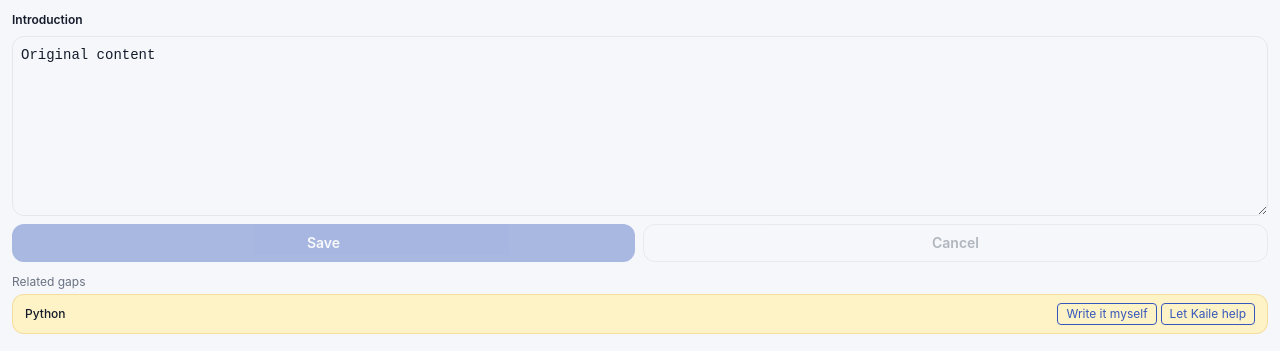
it: SectionEditor › resolved_gaps from save removes gap from visible list
The width and height of the screenshot is (1280, 351).
Expected: the button with test id "write-myself-btn" is shown, top-left (1058, 303), bottom-right (1157, 325)
Replace the text in the text box with test id "section-textarea" with "Python developer". click: (640, 126)
box: top-left (12, 36), bottom-right (1268, 216)
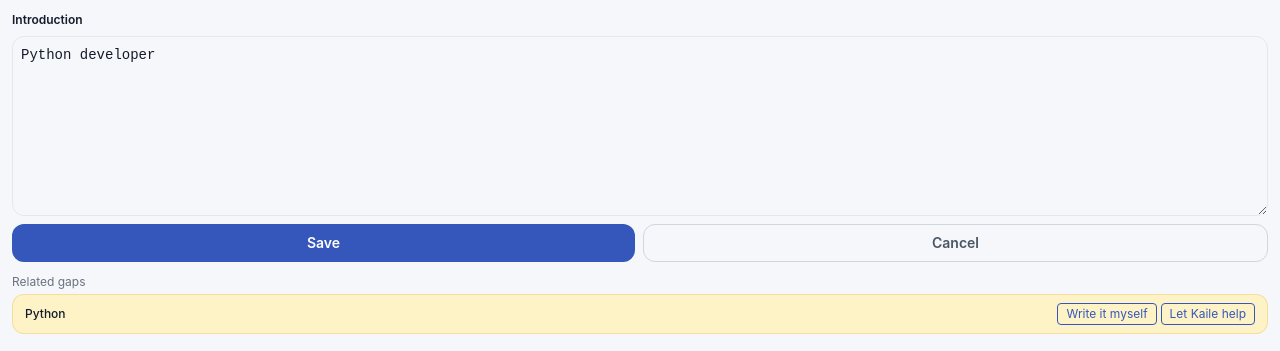
Click the button with test id "section-save". click: (324, 243)
box: top-left (12, 224), bottom-right (635, 262)
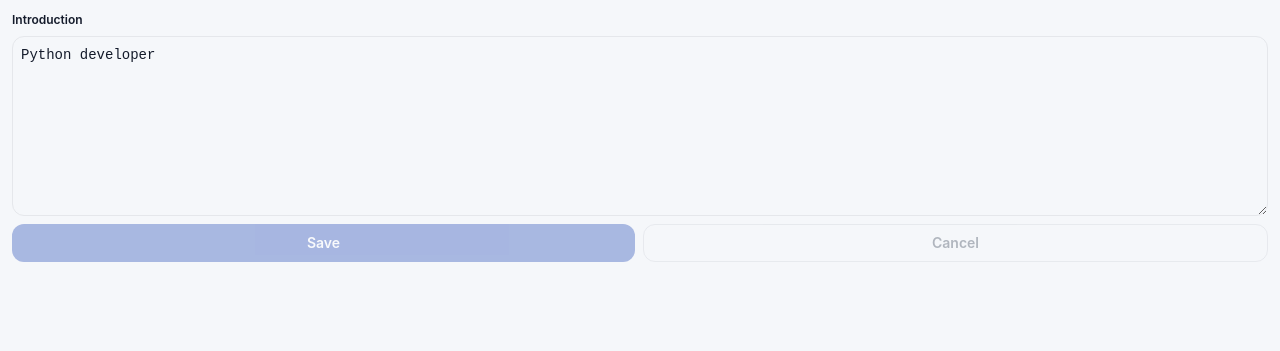
Expected: no buttons with test id "write-myself-btn" are shown
